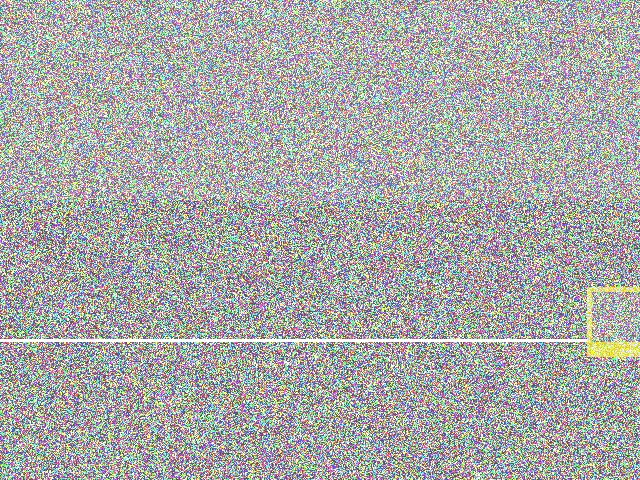bus: (293, 104, 456, 204)
motorcycle: (371, 101, 468, 220)
